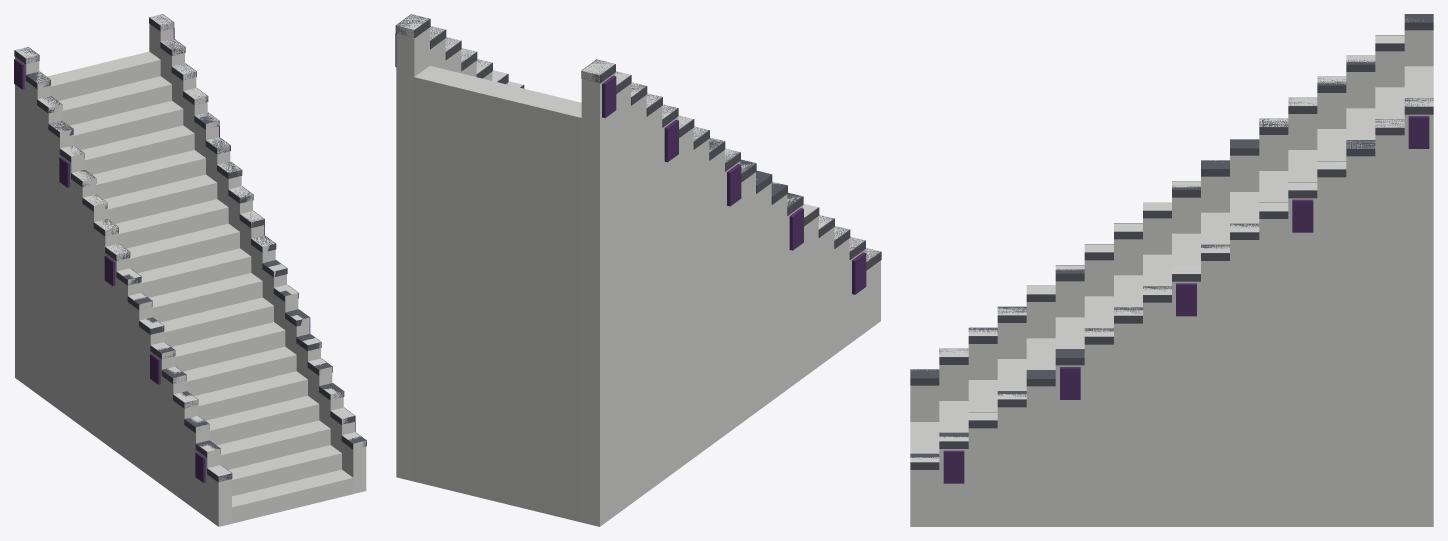
The model's file is Stair_Grand.fbx.
3 views of the same model, side by side, from view 1: azimuth 30°, elevation 25°; view 2: azimuth 150°, elevation 25°; view 3: azimuth 270°, elevation 25° (orthographic). The views are drawn at different scales.
Visible parts, largest first — view 1: SM_Stair_Grand; view 2: SM_Stair_Grand; view 3: SM_Stair_Grand.
Part boxes in pixels (x1,y1,x2,y2): SM_Stair_Grand: [14, 14, 366, 526]; SM_Stair_Grand: [395, 14, 881, 526]; SM_Stair_Grand: [910, 14, 1433, 526].
Size of the model in its own units: 3.26 by 6.7 by 7.56.
